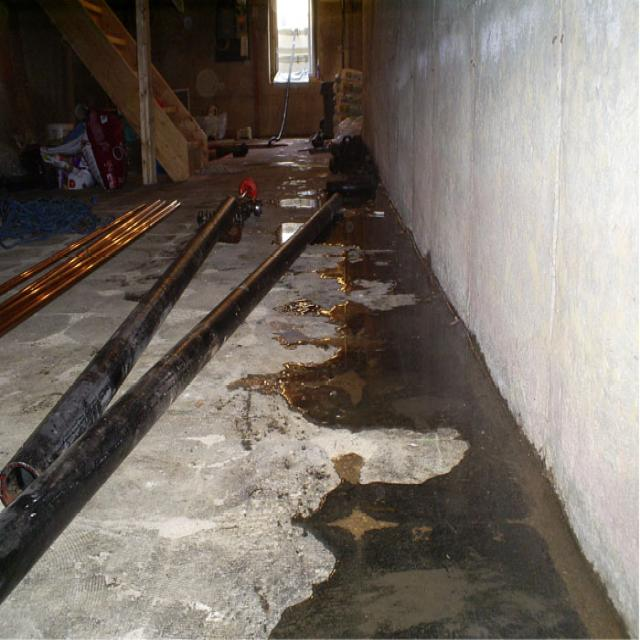Water_Leakage: (266, 144, 626, 640)
